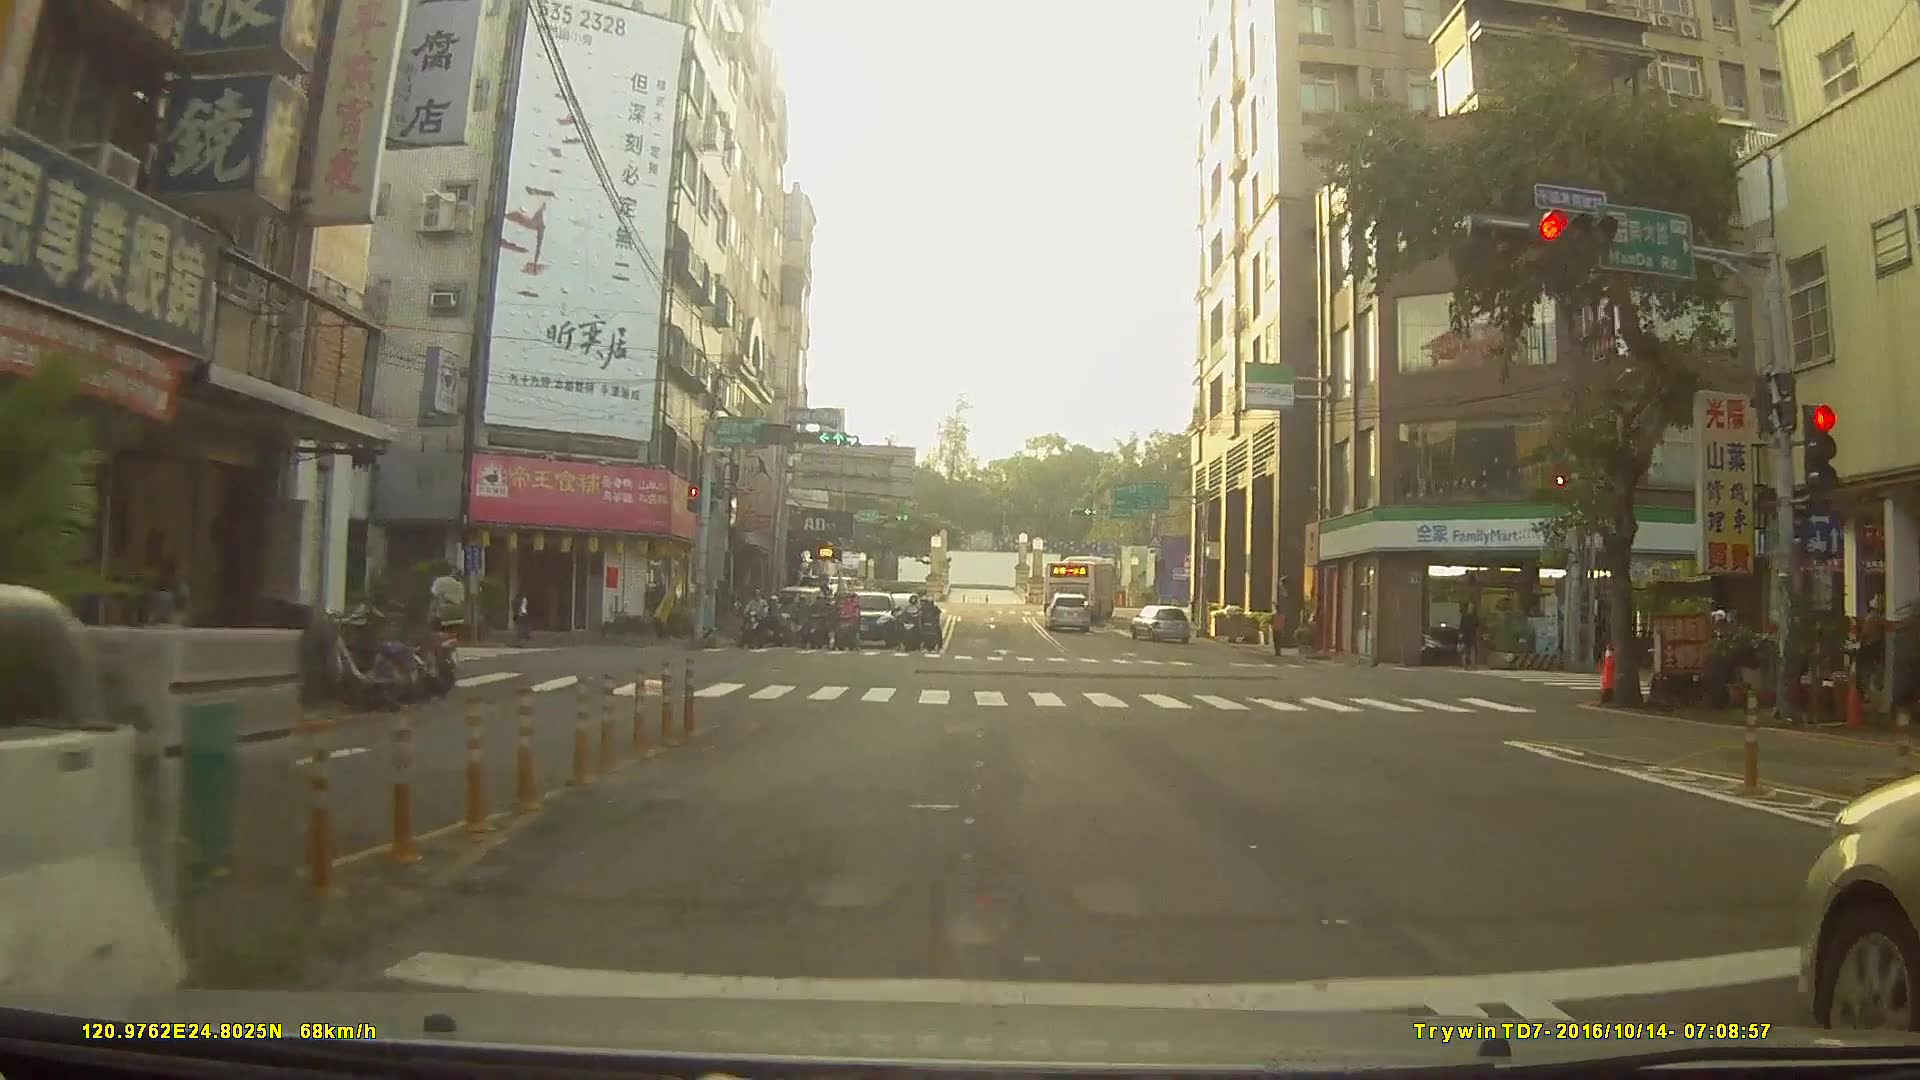pedestrian: (424, 561, 473, 670), (1460, 600, 1483, 670), (513, 588, 534, 647), (1270, 603, 1290, 659)
rider: (738, 590, 770, 654), (830, 594, 861, 657), (773, 592, 800, 647), (808, 592, 833, 651), (898, 591, 922, 652), (919, 603, 942, 659)
vehicle: (1042, 552, 1119, 617), (835, 587, 899, 650), (1127, 602, 1190, 643), (1042, 591, 1093, 630)
